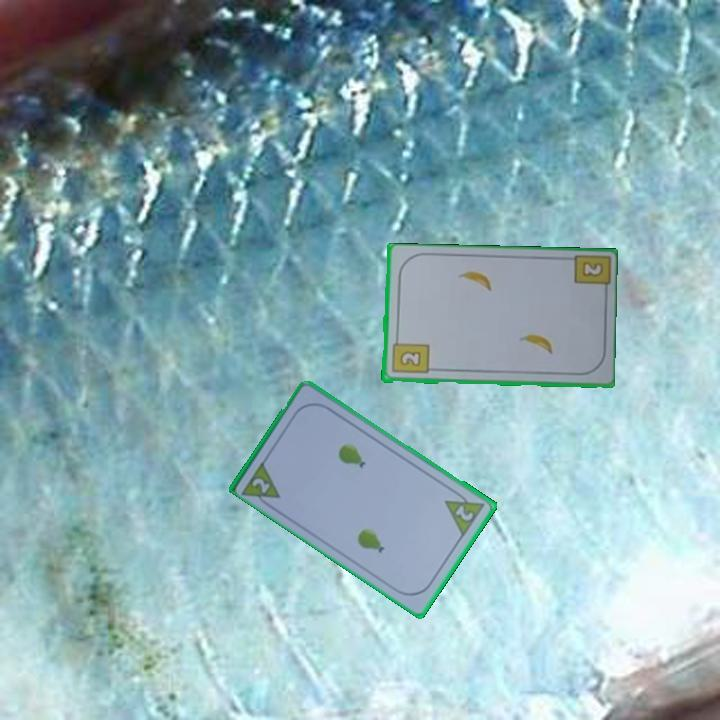2b: (388, 334, 431, 377), (578, 258, 606, 280)
2p: (452, 501, 477, 524), (249, 474, 273, 496)
